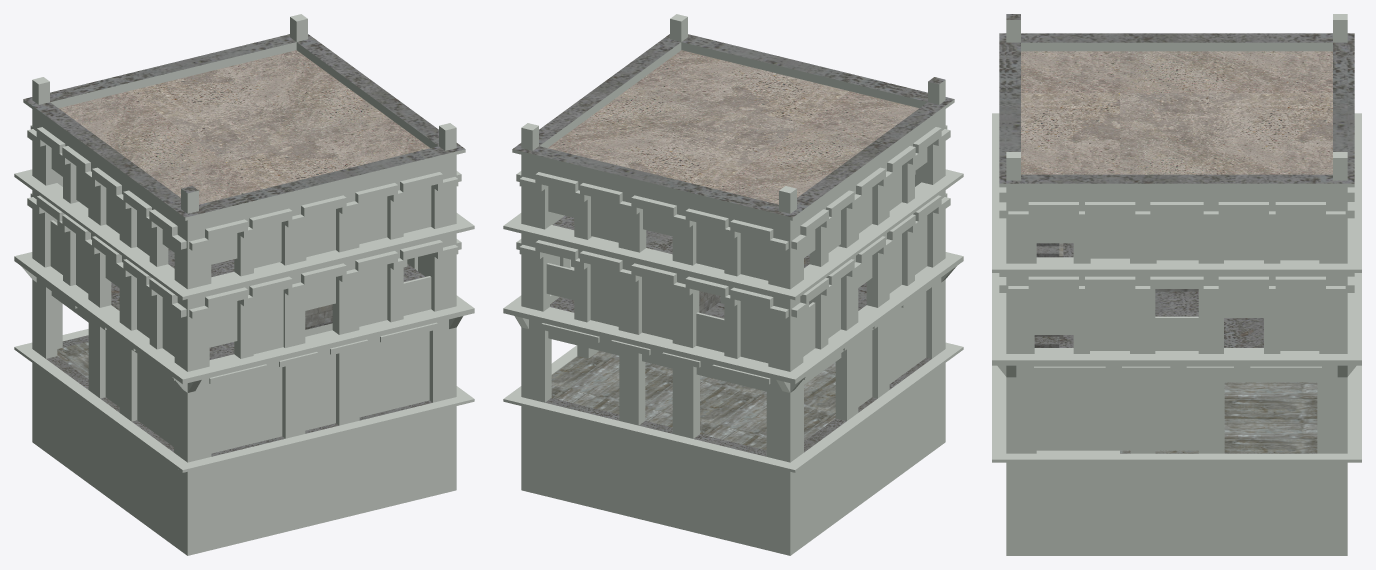
The model's file is BagBuilding2High.fbx.
3 views of the same model, side by side, from view 1: azimuth 30°, elevation 25°; view 2: azimuth 150°, elevation 25°; view 3: azimuth 270°, elevation 25° (orthographic). The views are drawn at different scales.
Parts seen in each view (by area): view 1: mainA300, concreteA300, stairsA300, floorA300; view 2: mainA300, concreteA300, stairsA300, floorA300; view 3: mainA300, concreteA300, stairsA300, floorA300.
Part boxes in pixels (left/top/right/bottom): mainA300: left=14, top=14, right=474, bottom=555; concreteA300: left=59, top=50, right=429, bottom=204; stairsA300: left=23, top=34, right=465, bottom=456; floorA300: left=57, top=341, right=88, bottom=378; mainA300: left=503, top=14, right=963, bottom=555; concreteA300: left=548, top=50, right=918, bottom=204; stairsA300: left=512, top=34, right=954, bottom=456; floorA300: left=551, top=351, right=835, bottom=450; mainA300: left=992, top=14, right=1361, bottom=555; concreteA300: left=1021, top=51, right=1332, bottom=174; stairsA300: left=999, top=14, right=1354, bottom=347; floorA300: left=1120, top=382, right=1317, bottom=453.
Bounding box in the file's own units: 14.54 × 17.26 × 14.54.
